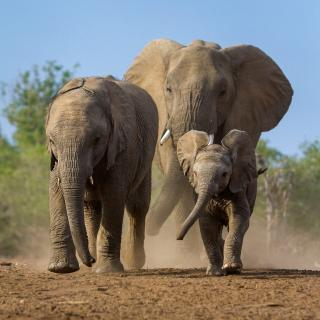Elephant: (115, 34, 299, 255), (40, 70, 152, 278), (175, 128, 282, 279)
